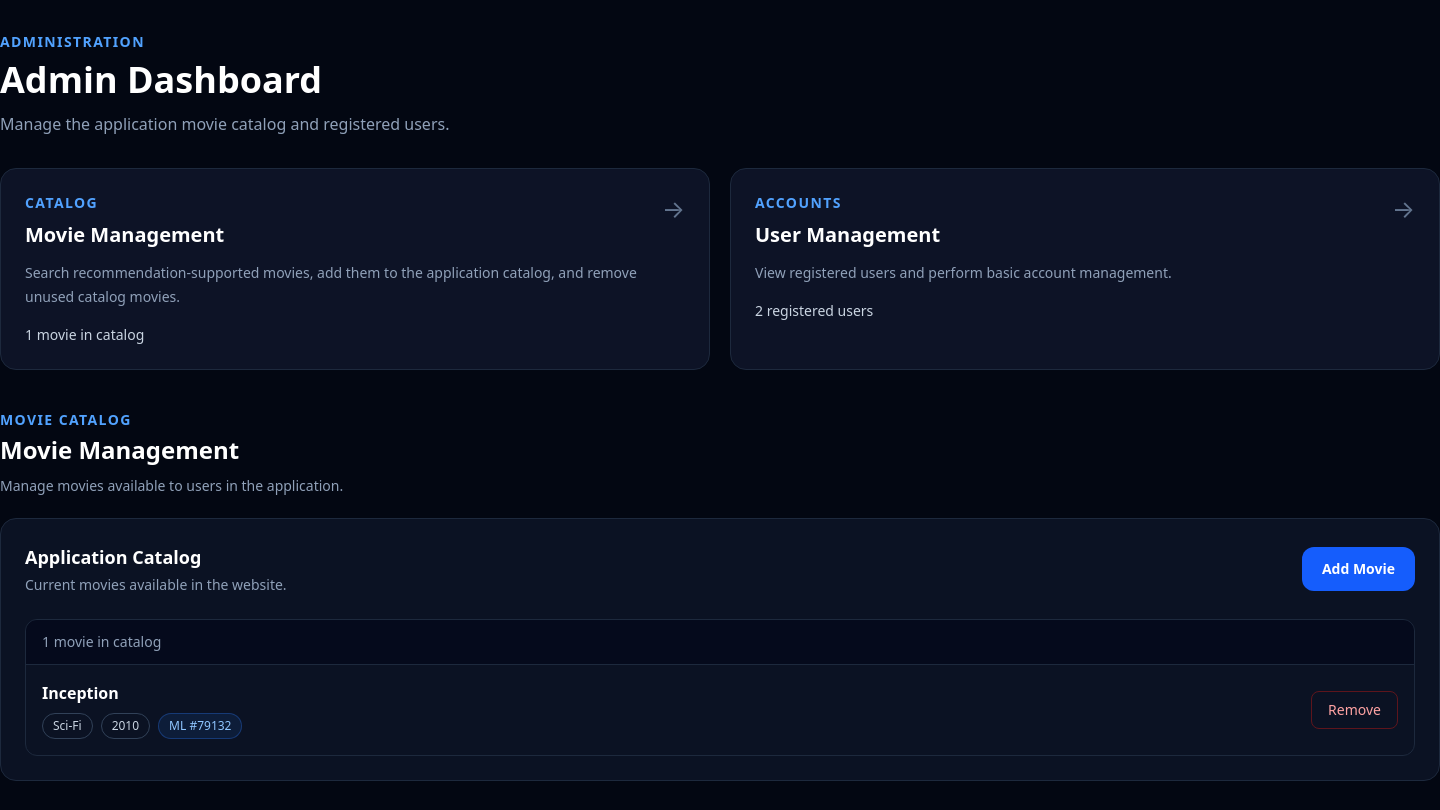
Test: AdminDashboard › shows ML movie search error
This screenshot has width=1440, height=810.
Expected: the link "Inception" is shown, [42, 682, 119, 704]
Click the button "Add Movie" at (1358, 569), box [1302, 547, 1415, 591]
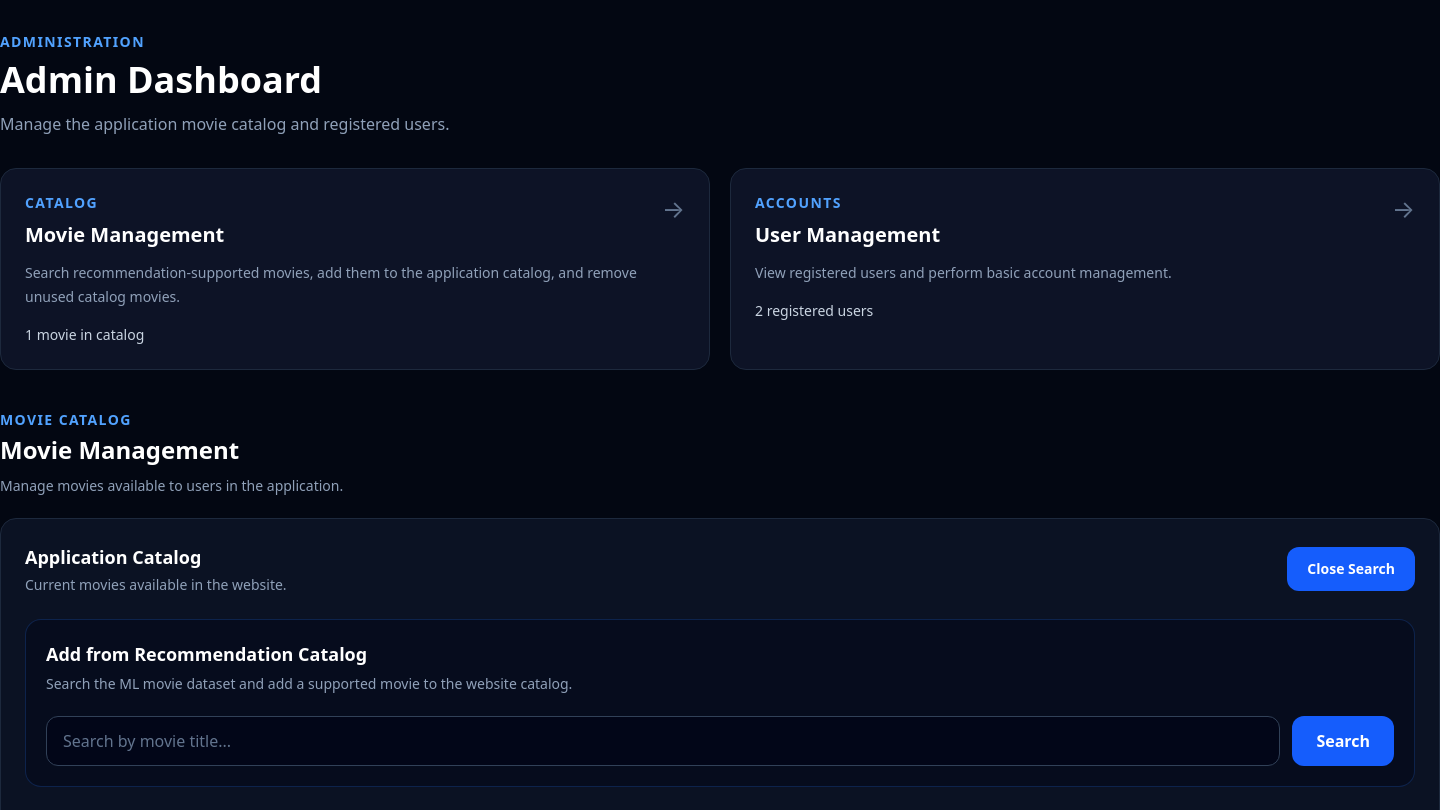
Type "Batman" into the search field named "Search ML movies" at (663, 741), box [46, 716, 1280, 766]
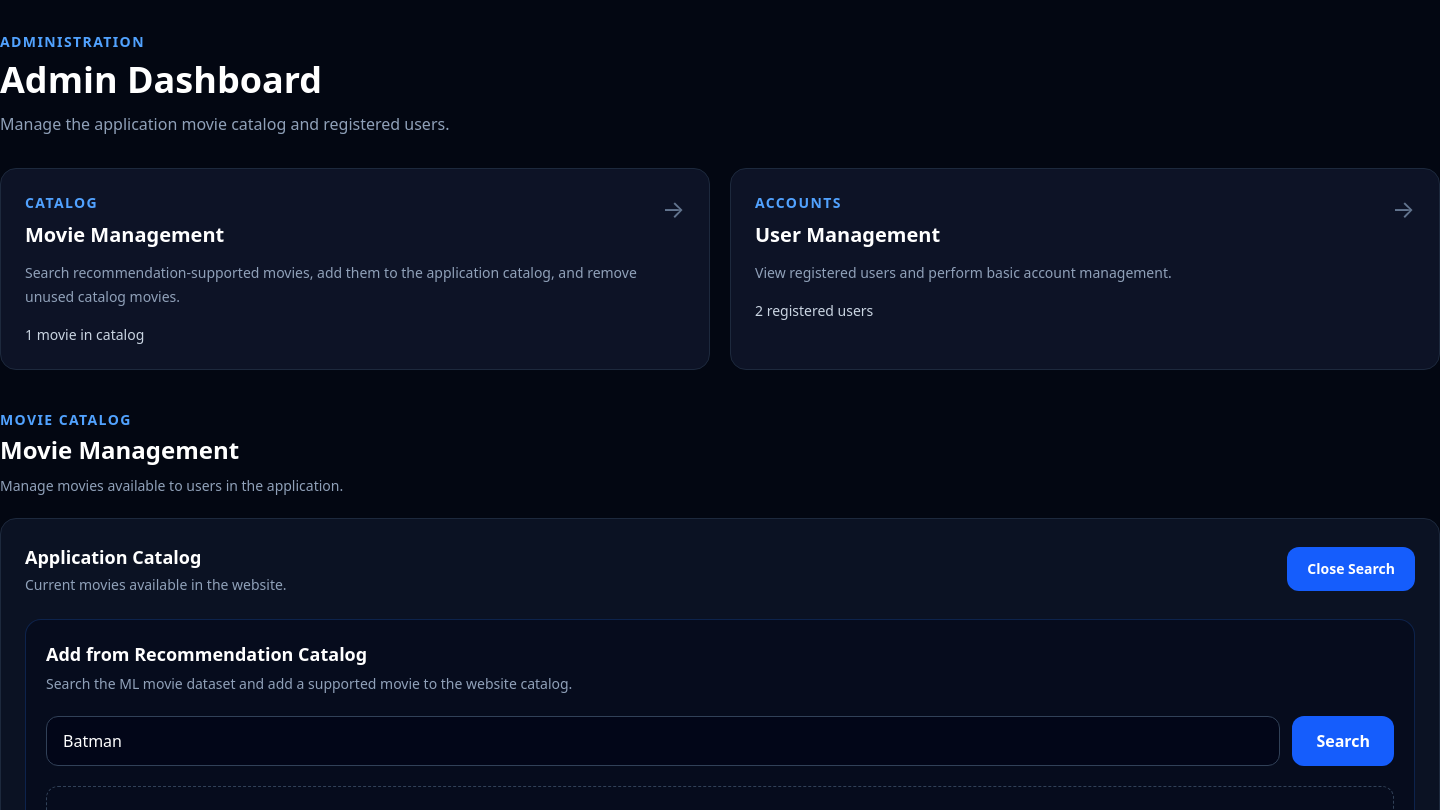
Click the button "Search" at (1343, 741), box [1292, 716, 1394, 766]
(page scrolled)
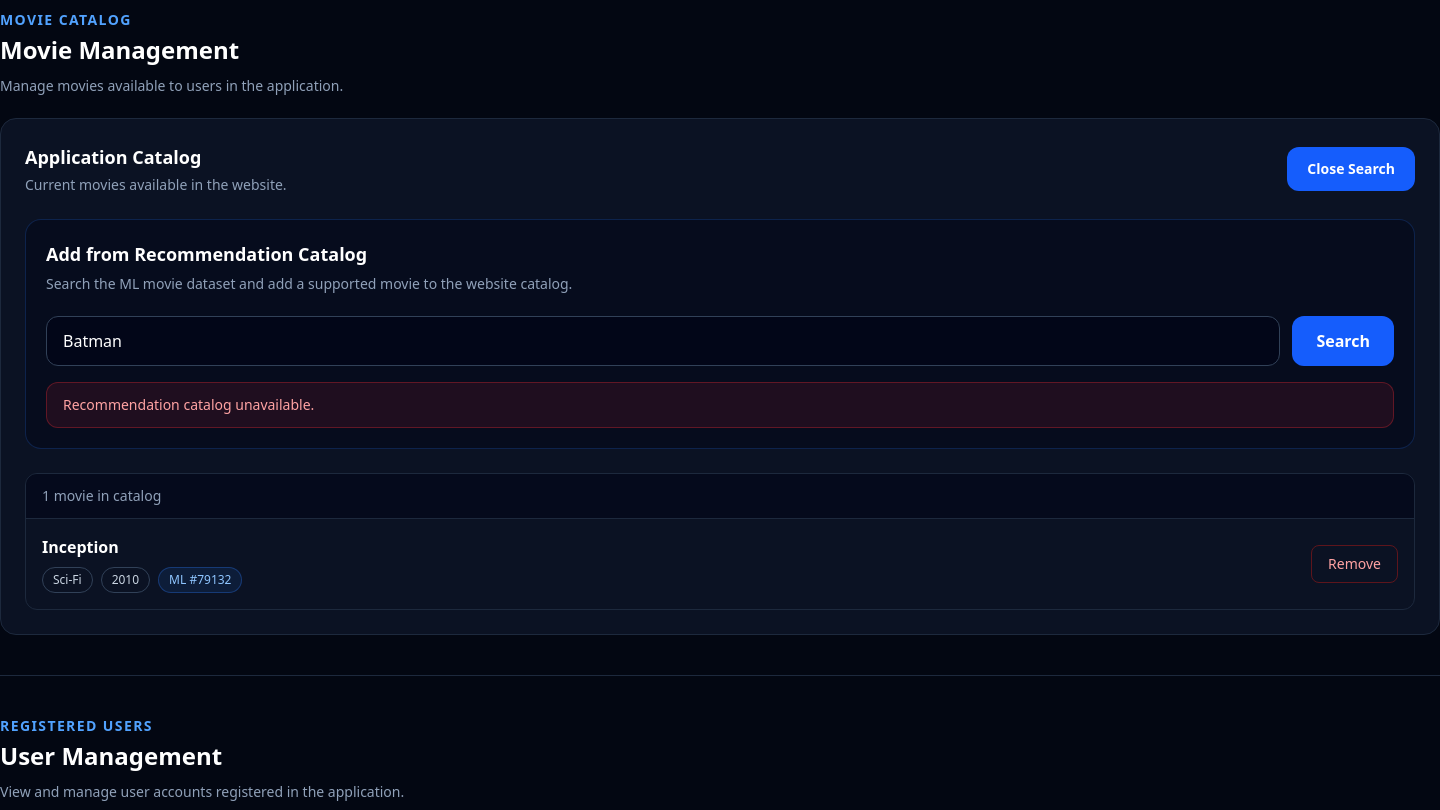
Result: the text "Recommendation catalog unavailable." is shown at [63, 395, 314, 414]
